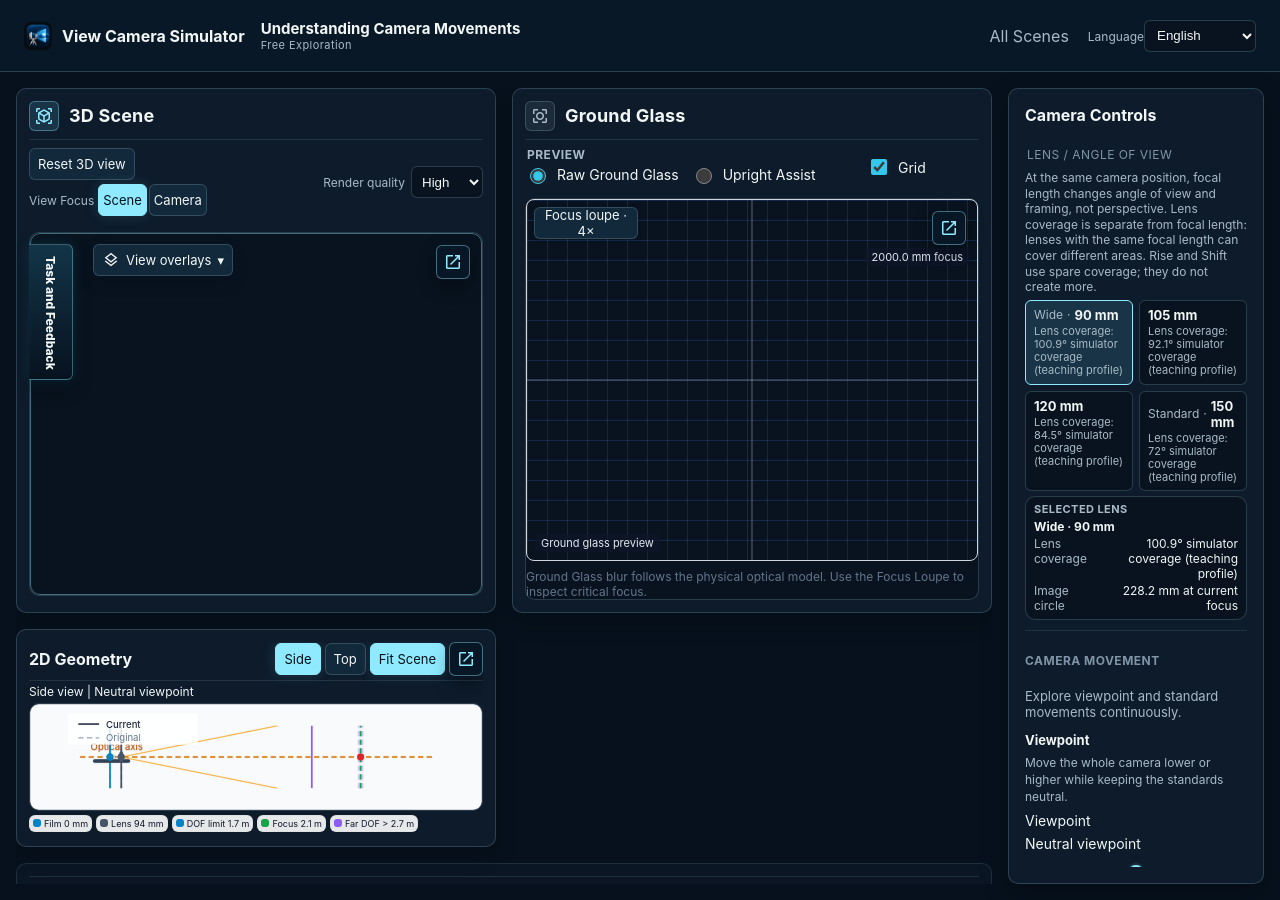
Test: public camera movement controls in the workspace › preserves one Current Ground Glass renderer when Ground Glass expands
Click the button named "Expand Ground Glass": click(949, 228) 932,211 -> 966,245
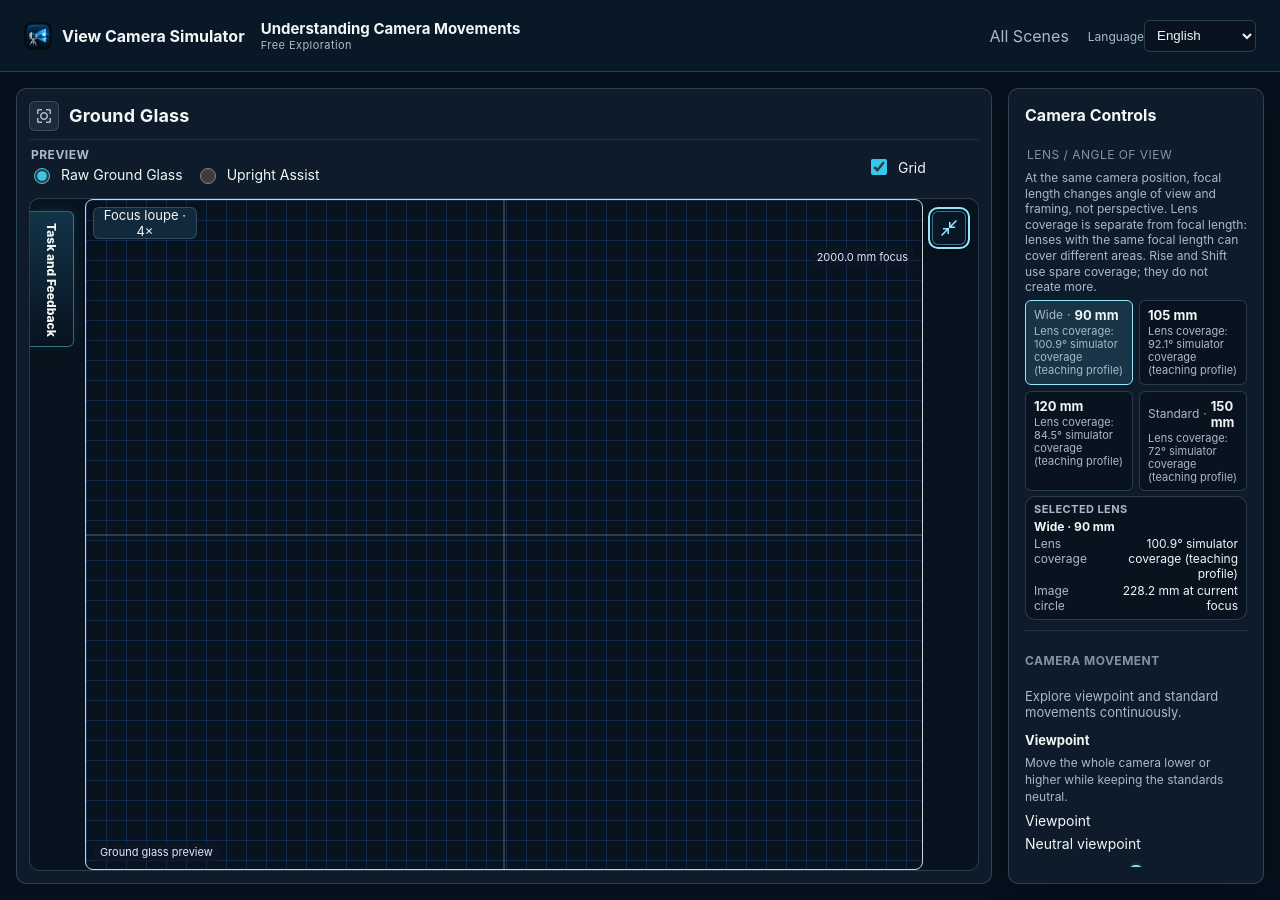
Expected: the number of elements with test id "ground-glass-rtt" is 1, 86,200 -> 922,869
Result: the icon "Original" is gone
